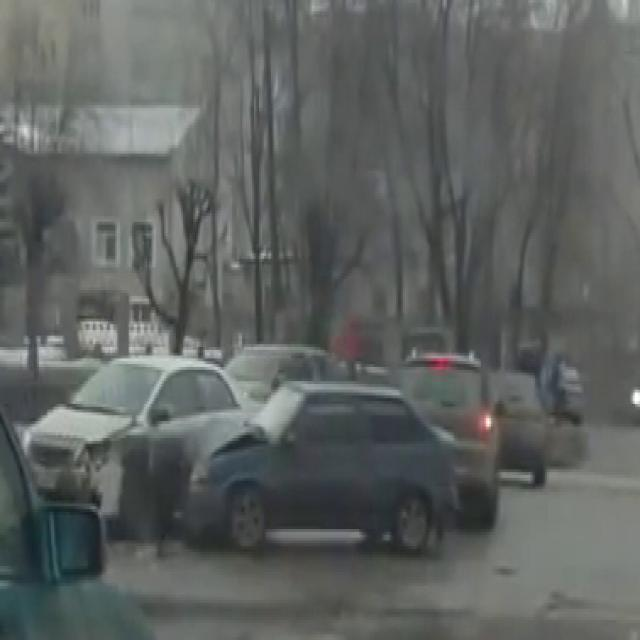accident: (61, 340, 336, 560)
